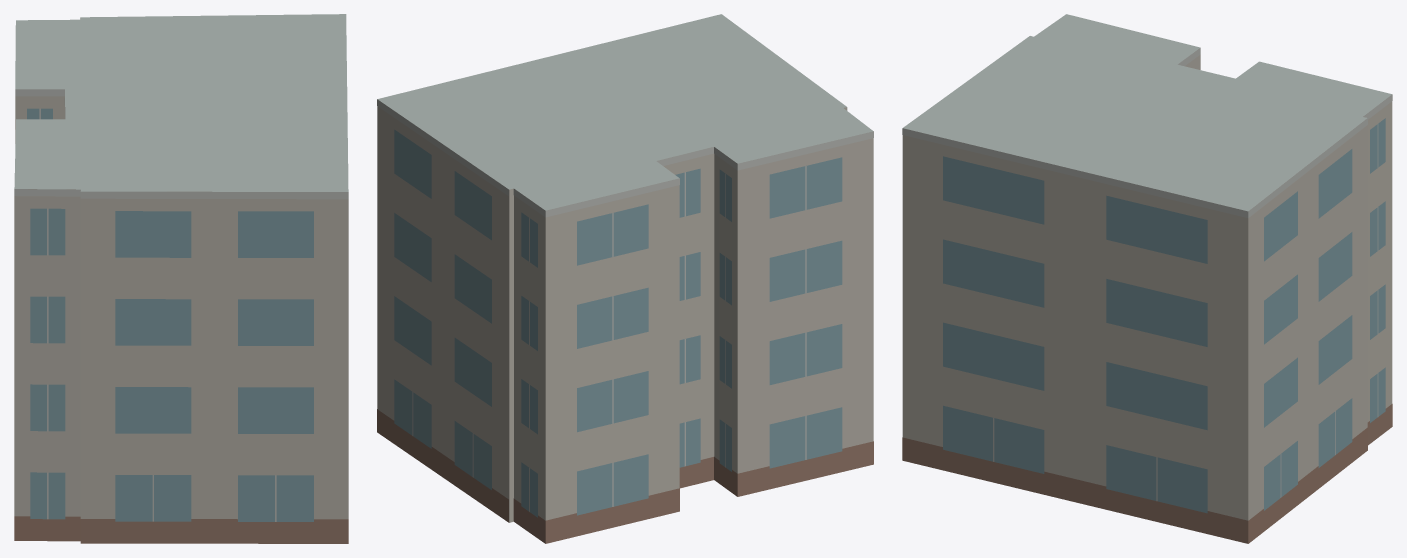
Rendered from survey-upis-32655024.glb.
3 views of the same model, side by side, from view 1: azimuth 30°, elevation 25°; view 2: azimuth 150°, elevation 25°; view 3: azimuth 270°, elevation 25° (orthographic). The views are drawn at different scales.
Visible parts, largest first — view 1: survey-upis-32655024.tmp; view 2: survey-upis-32655024.tmp; view 3: survey-upis-32655024.tmp.
Boxes of the visible parts, x1,y1,x2,y2 form: survey-upis-32655024.tmp: (14, 14, 348, 543); survey-upis-32655024.tmp: (377, 14, 873, 543); survey-upis-32655024.tmp: (902, 14, 1392, 543).
Bounding box in the file's own units: 15.16 × 11.9 × 15.9.
